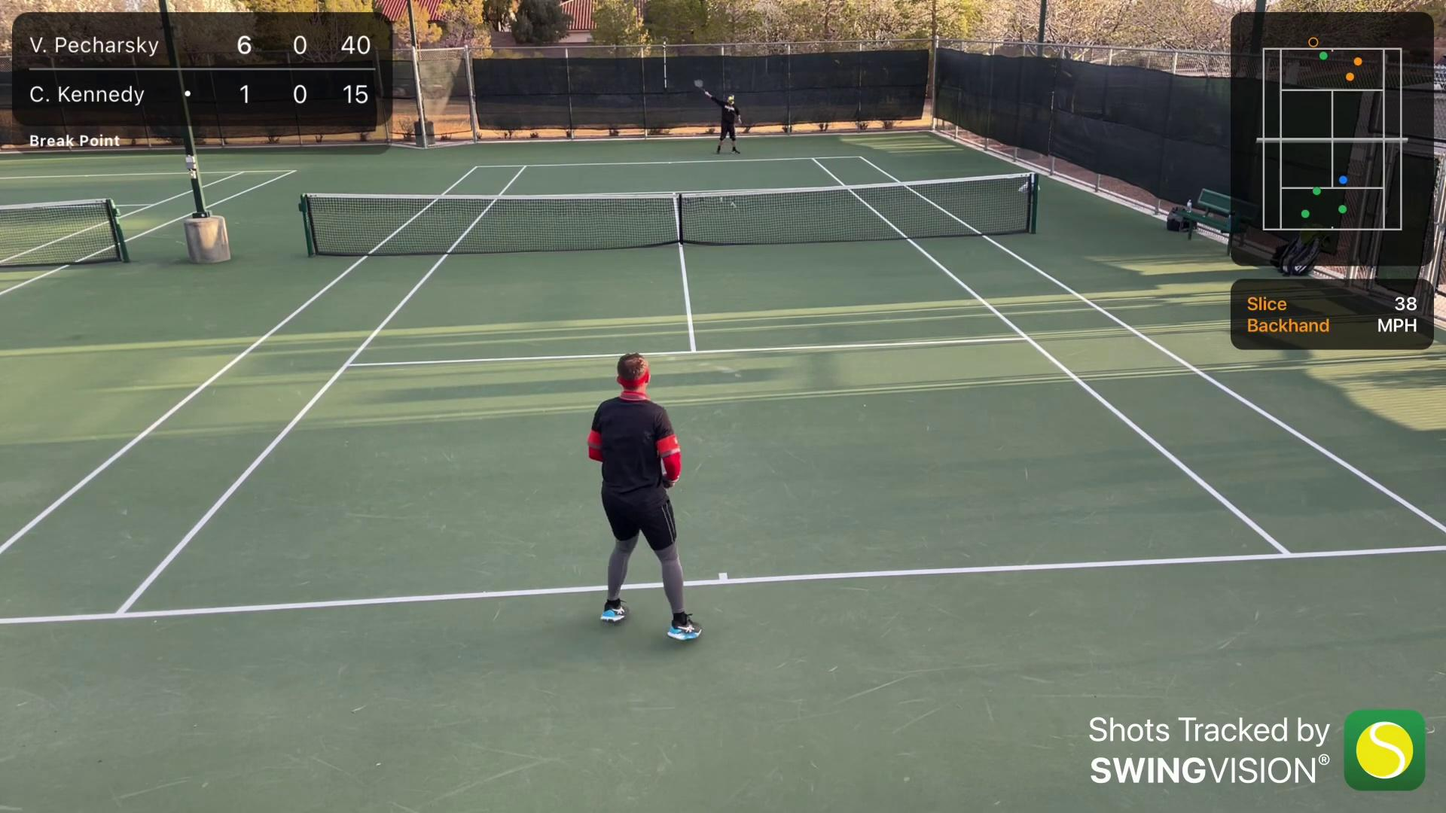ball: (728, 96, 734, 102)
